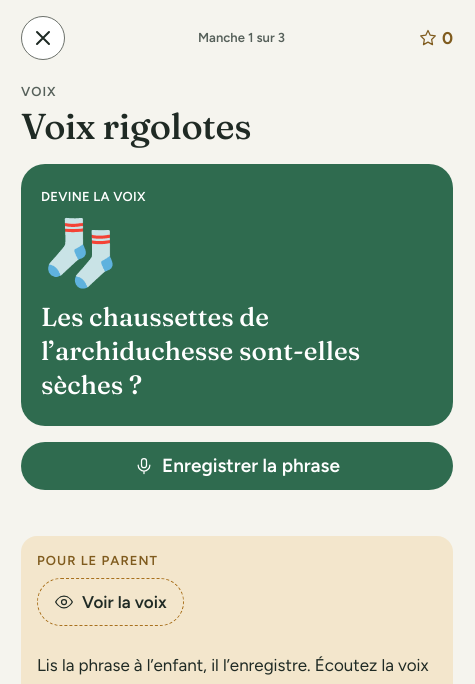
Test: une partie avec le micro › quitter pendant l’enregistrement coupe le micro
Click the button "Enregistrer la phrase" at (237, 466), box [21,442,453,490]
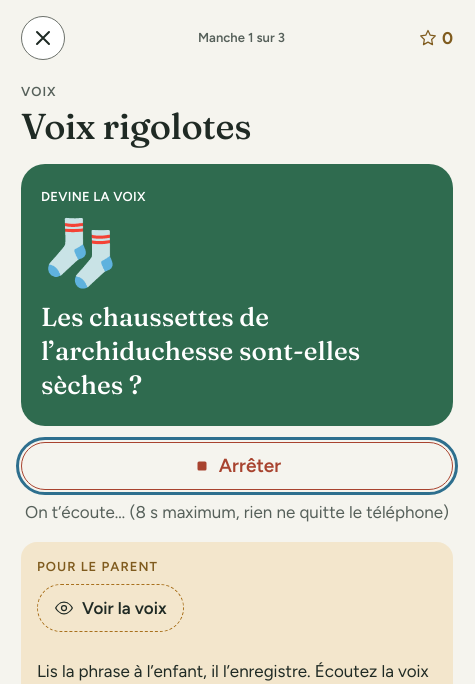
Expected: the button "Arrêter" is shown, [21,442,453,490]
